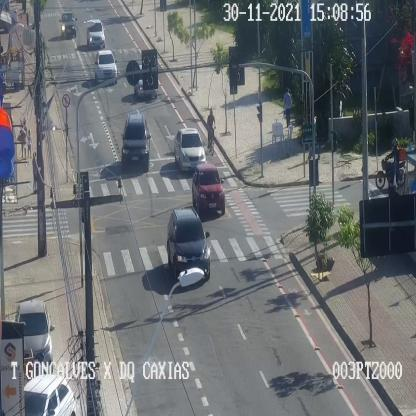bicycle: (206, 107, 216, 155)
car: (166, 208, 210, 278), (16, 301, 52, 373), (23, 374, 76, 415), (192, 164, 224, 213), (122, 113, 149, 171), (174, 128, 205, 171), (94, 50, 117, 83), (134, 65, 157, 98), (86, 19, 104, 47), (61, 12, 76, 37)
motorbike: (375, 137, 405, 188)
person: (283, 86, 292, 126), (20, 118, 27, 159), (32, 151, 38, 193), (27, 130, 32, 157)
